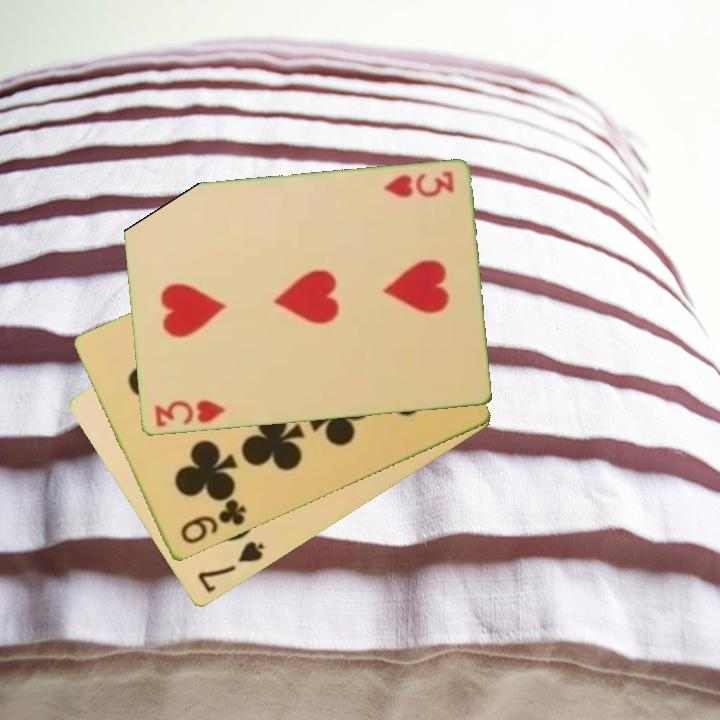3h: (150, 396, 228, 431), (380, 168, 457, 201)
7s: (194, 538, 268, 597)
9c: (176, 496, 249, 548)
